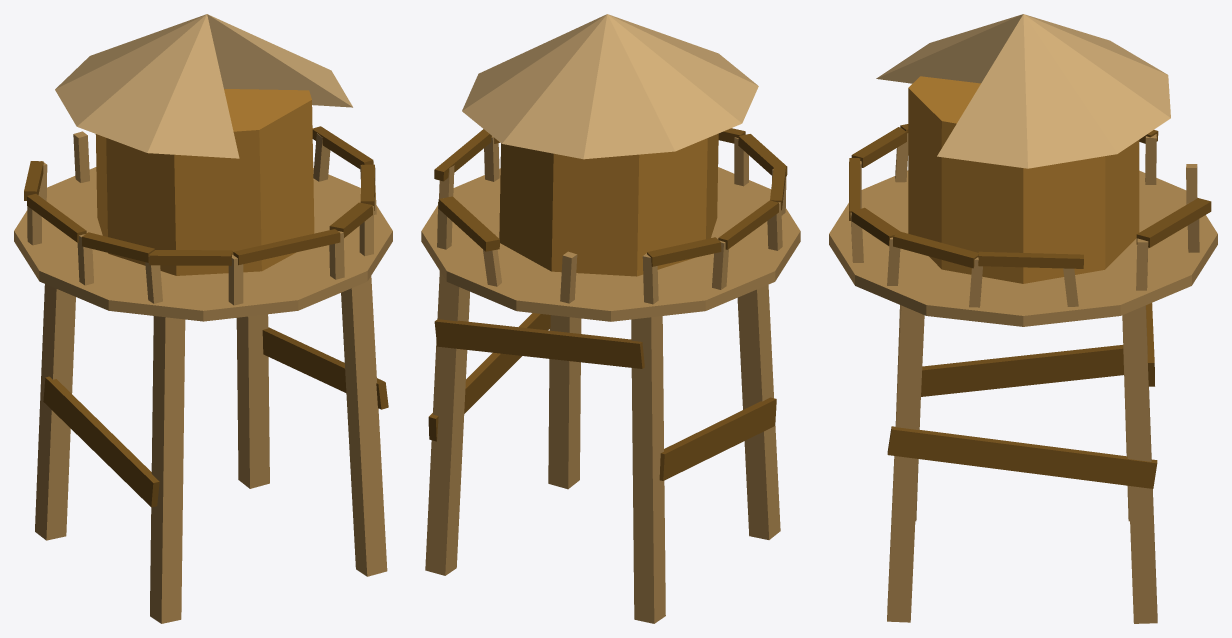
Rendered from waterTower.gltf.
3 renders of one model, left to right at view 1: azimuth 30°, elevation 25°; view 2: azimuth 150°, elevation 25°; view 3: azimuth 270°, elevation 25°, orthographic. The views are drawn at different scales.
Parts seen in each view (by area): view 1: Cylinder.001, Cone, Cylinder, Cube.024, Cube.021, Cube.022, Cube.023, Cube.025, Cube.027, Cube.016, Cube.017, Cube.018 (+12 smaller); view 2: Cone, Cylinder.001, Cylinder, Cube.022, Cube.023, Cube.024, Cube.026, Cube.021, Cube.025, Cube.027, Cube.012, Cube.020 (+11 smaller); view 3: Cone, Cylinder.001, Cylinder, Cube.027, Cube.023, Cube.021, Cube.025, Cube.013, Cube.012, Cube.014, Cube.017, Cube.015 (+4 smaller).
Boxes of the visible parts, <box> form: Cylinder.001: <box>95,89,314,275</box>; Cone: <box>55,14,352,158</box>; Cylinder: <box>14,167,392,321</box>; Cube.024: <box>150,316,185,623</box>; Cube.021: <box>341,276,387,576</box>; Cube.022: <box>35,284,75,540</box>; Cube.023: <box>236,314,269,488</box>; Cube.025: <box>43,376,159,507</box>; Cube.027: <box>262,327,388,409</box>; Cube.016: <box>233,229,340,265</box>; Cube.017: <box>149,250,232,265</box>; Cube.018: <box>82,232,154,262</box>; Cone: <box>462,14,758,159</box>; Cylinder.001: <box>499,133,718,276</box>; Cylinder: <box>421,167,800,321</box>; Cube.022: <box>631,316,665,623</box>; Cube.023: <box>425,271,469,575</box>; Cube.024: <box>737,284,780,539</box>; Cube.026: <box>434,319,644,368</box>; Cube.021: <box>548,315,581,489</box>; Cube.025: <box>659,397,776,480</box>; Cube.027: <box>428,313,550,441</box>; Cube.012: <box>438,196,499,251</box>; Cube.020: <box>647,237,721,266</box>; Cone: <box>876,14,1170,168</box>; Cylinder.001: <box>908,76,1139,283</box>; Cylinder: <box>829,170,1217,326</box>; Cube.027: <box>887,426,1157,488</box>; Cube.023: <box>1122,305,1157,623</box>; Cube.021: <box>887,305,924,622</box>; Cube.025: <box>921,345,1123,396</box>; Cube.013: <box>978,251,1083,268</box>; Cube.012: <box>1136,198,1211,247</box>; Cube.014: <box>893,231,978,268</box>; Cube.017: <box>851,127,907,167</box>; Cube.015: <box>851,207,899,245</box>.
Size of the model in its own units: 24.35 by 38.16 by 24.35.
